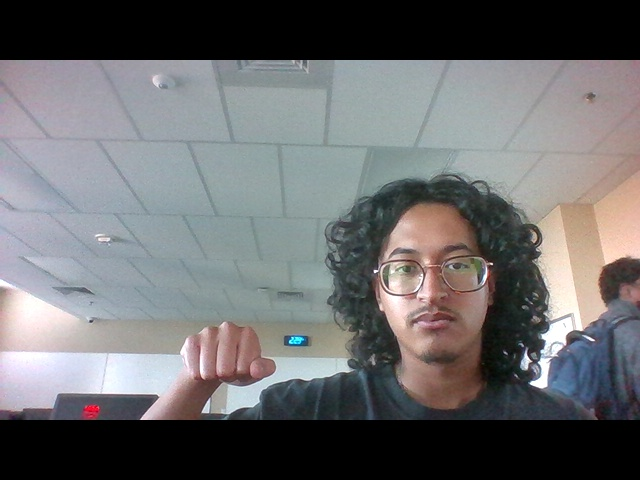yes: (166, 310, 291, 393)
